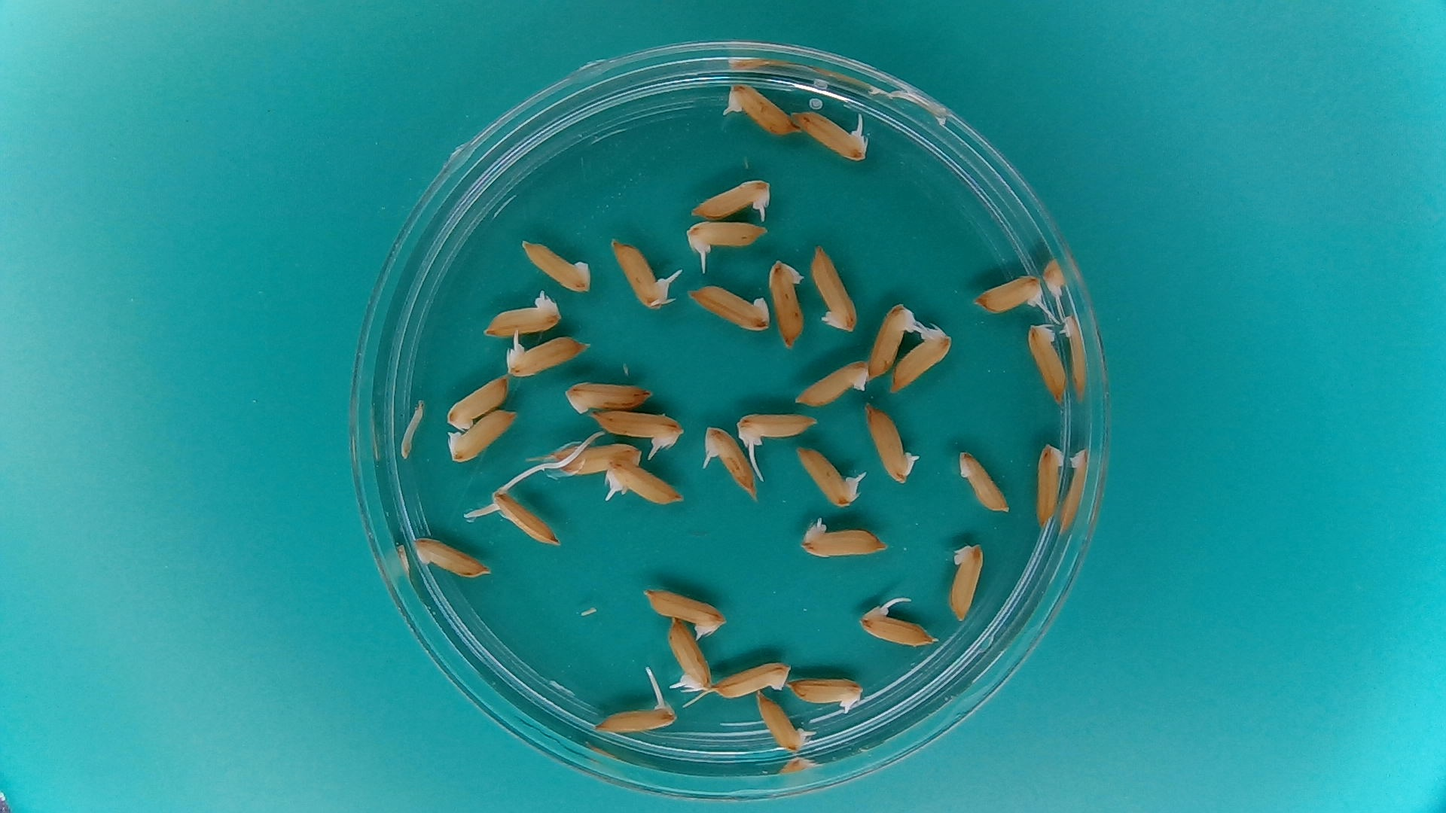no: (443, 406, 521, 466), (810, 243, 859, 333), (1023, 318, 1070, 406), (792, 356, 871, 408), (767, 255, 809, 352), (521, 237, 592, 294), (954, 447, 1012, 516), (443, 373, 512, 431), (560, 374, 655, 416), (688, 284, 771, 332), (944, 538, 987, 626), (709, 656, 794, 699), (411, 537, 493, 580), (552, 440, 642, 478), (1033, 437, 1066, 528), (783, 675, 862, 711)
yes: (587, 407, 685, 454), (700, 425, 761, 499), (889, 329, 953, 397), (790, 106, 867, 161), (792, 448, 859, 509), (866, 407, 917, 486), (600, 460, 685, 507), (646, 587, 724, 637), (664, 615, 712, 696), (727, 82, 799, 136), (688, 175, 770, 222), (865, 301, 912, 382), (591, 697, 679, 740), (801, 520, 893, 559), (502, 334, 582, 378), (615, 243, 670, 306), (685, 218, 773, 257), (493, 493, 560, 544), (740, 410, 827, 449), (482, 297, 565, 337), (856, 607, 934, 649), (756, 695, 808, 754), (978, 276, 1049, 315)
